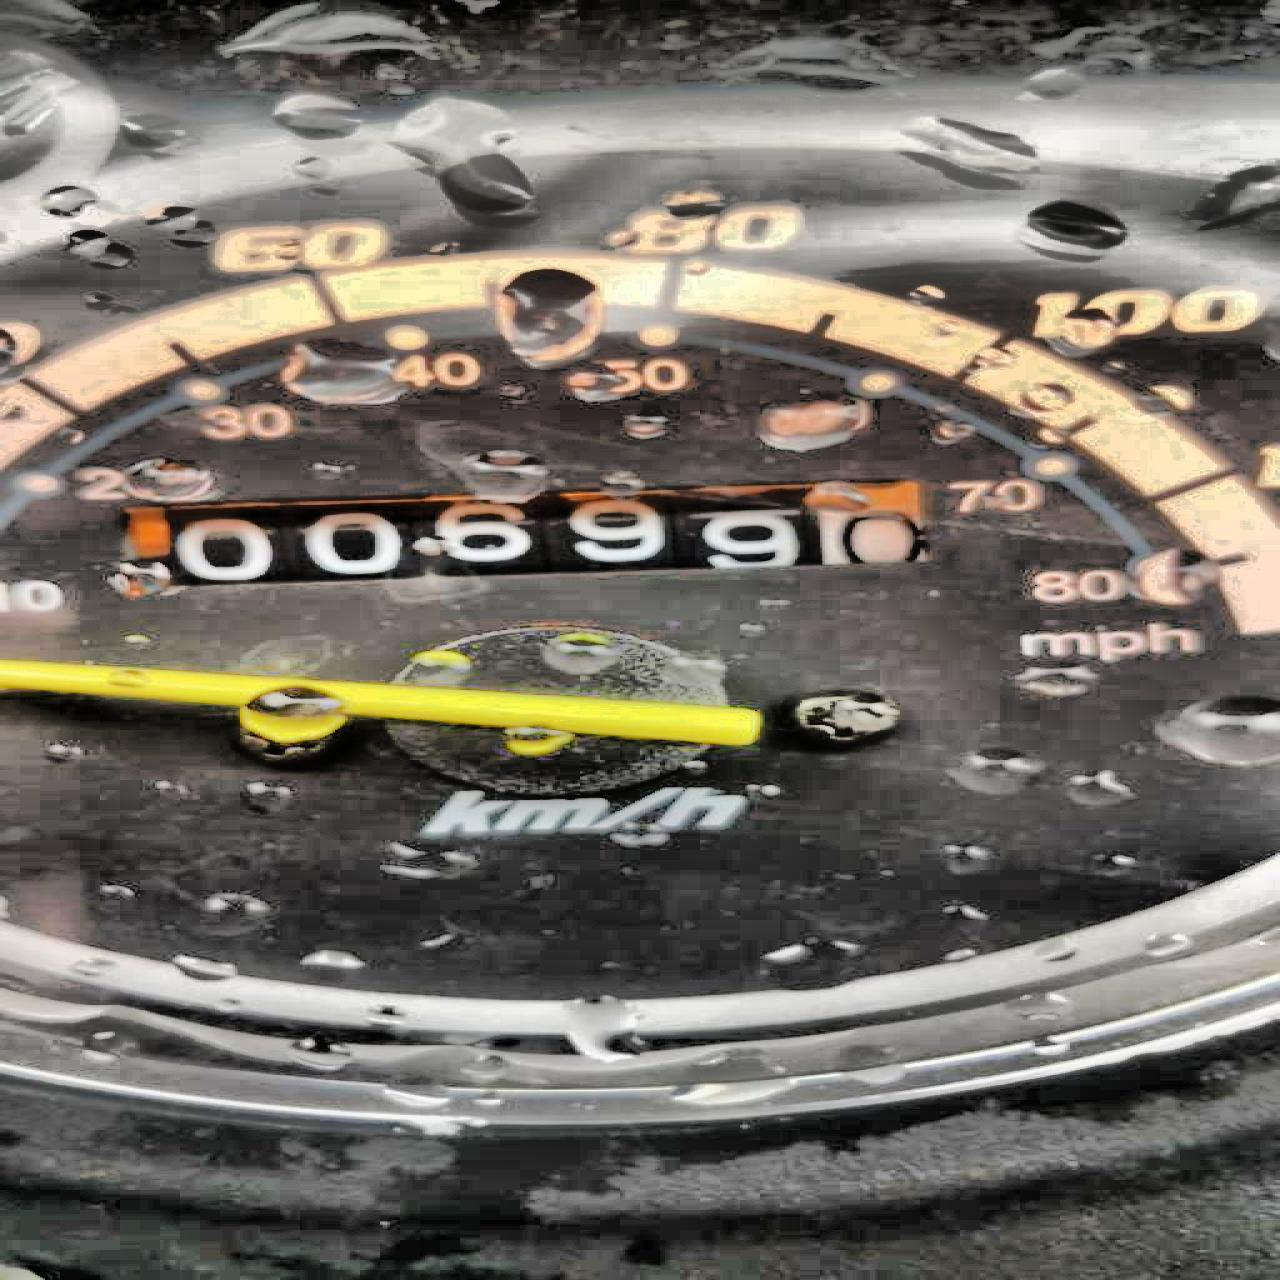0: (163, 511, 275, 586), (825, 505, 933, 583), (300, 504, 400, 577)
6: (430, 498, 525, 572)
9: (565, 493, 665, 571), (697, 504, 801, 577)
odometer: (128, 477, 955, 601)
